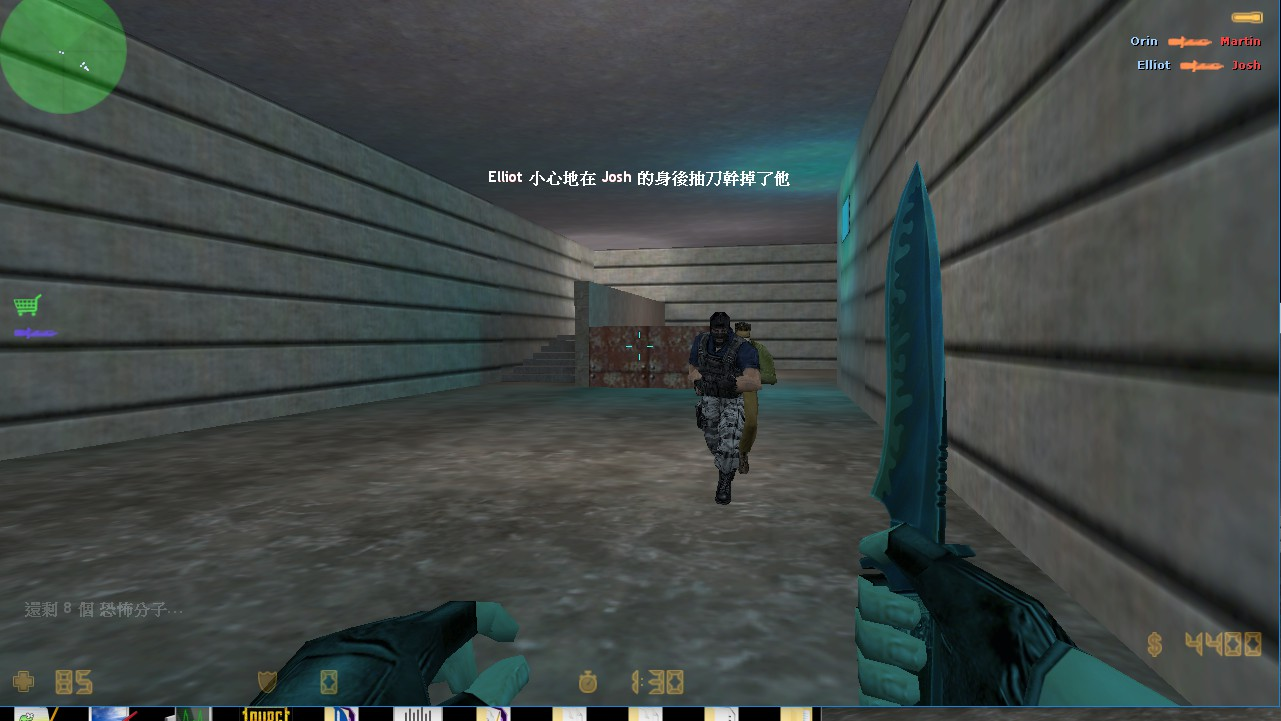person: (690, 310, 743, 507), (734, 321, 785, 477)
